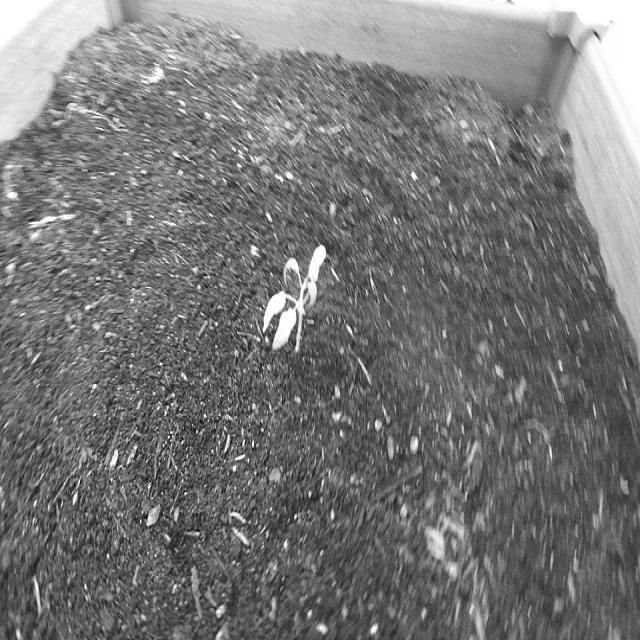Healthy: (258, 228, 331, 376)
